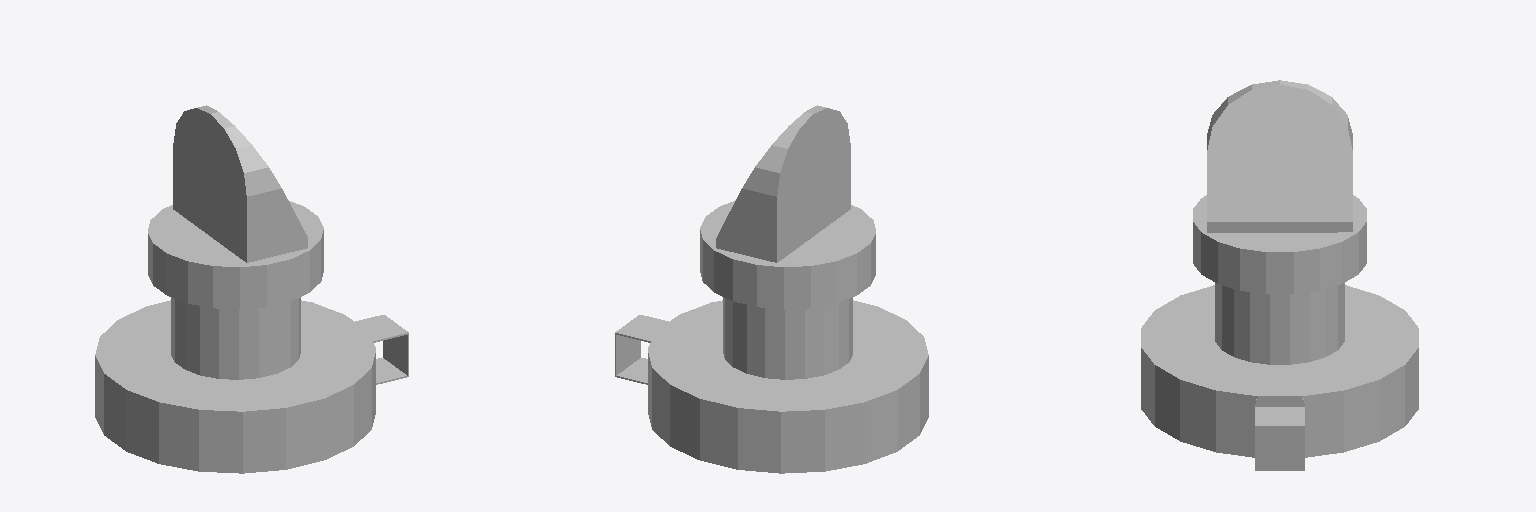
The model's file is mastCamPanBase.obj.
3 renders of one model, left to right at view 1: azimuth 30°, elevation 25°; view 2: azimuth 150°, elevation 25°; view 3: azimuth 270°, elevation 25°, orthographic.
Parts seen in each view (by area): view 1: mast_02.001_Mesh.017; view 2: mast_02.001_Mesh.017; view 3: mast_02.001_Mesh.017.
Boxes of the visible parts, box(x1,y1,x2,y2) form: mast_02.001_Mesh.017: box(95, 105, 408, 473); mast_02.001_Mesh.017: box(615, 105, 928, 473); mast_02.001_Mesh.017: box(1141, 80, 1418, 470).
Bounding box in the file's own units: 0.271 × 0.2824 × 0.2321.